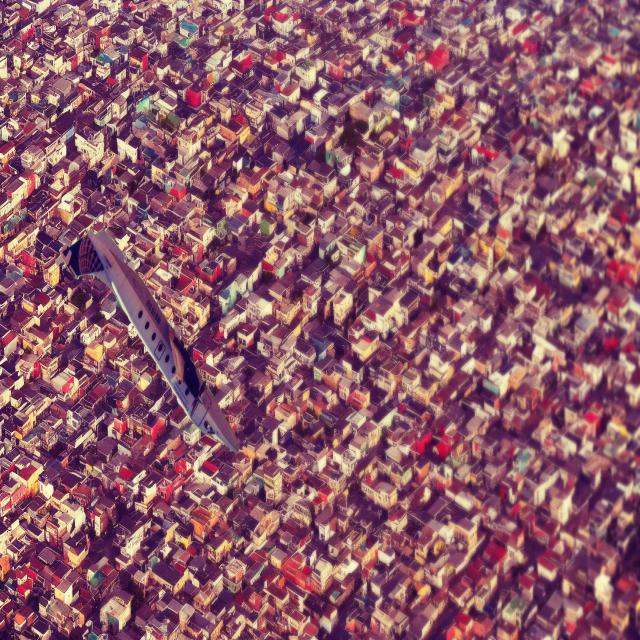airplane: (68, 223, 240, 454)
